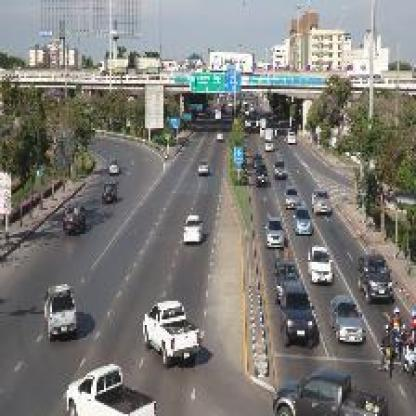other: (58, 357, 148, 412)
